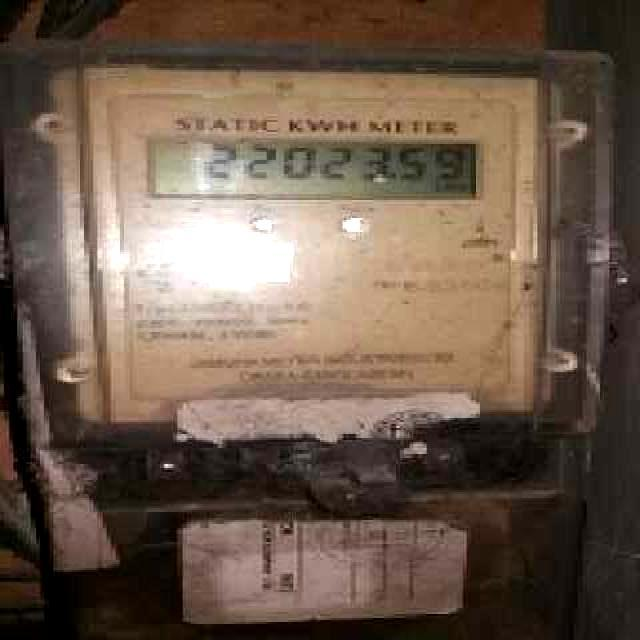LCD: (145, 130, 485, 201)
